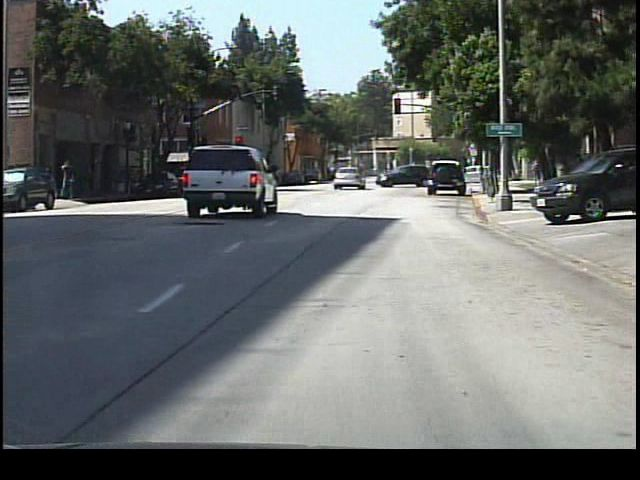person: (59, 157, 81, 203), (326, 162, 344, 187), (481, 155, 496, 182)
